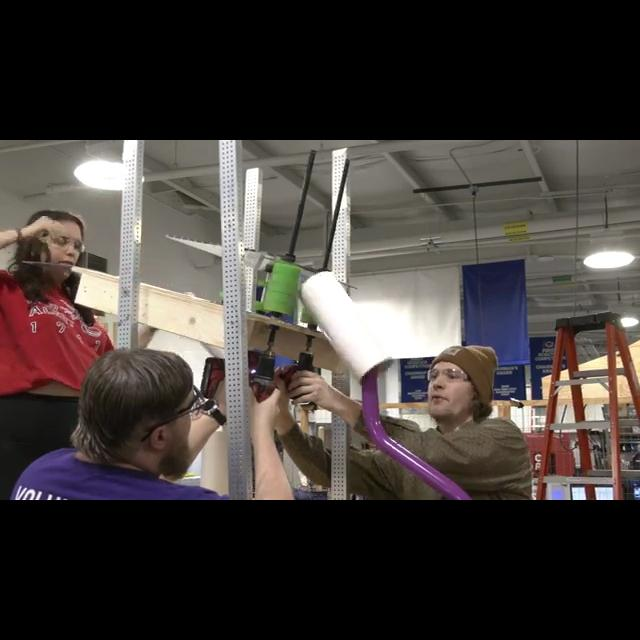CORAL: (298, 269, 390, 383)
